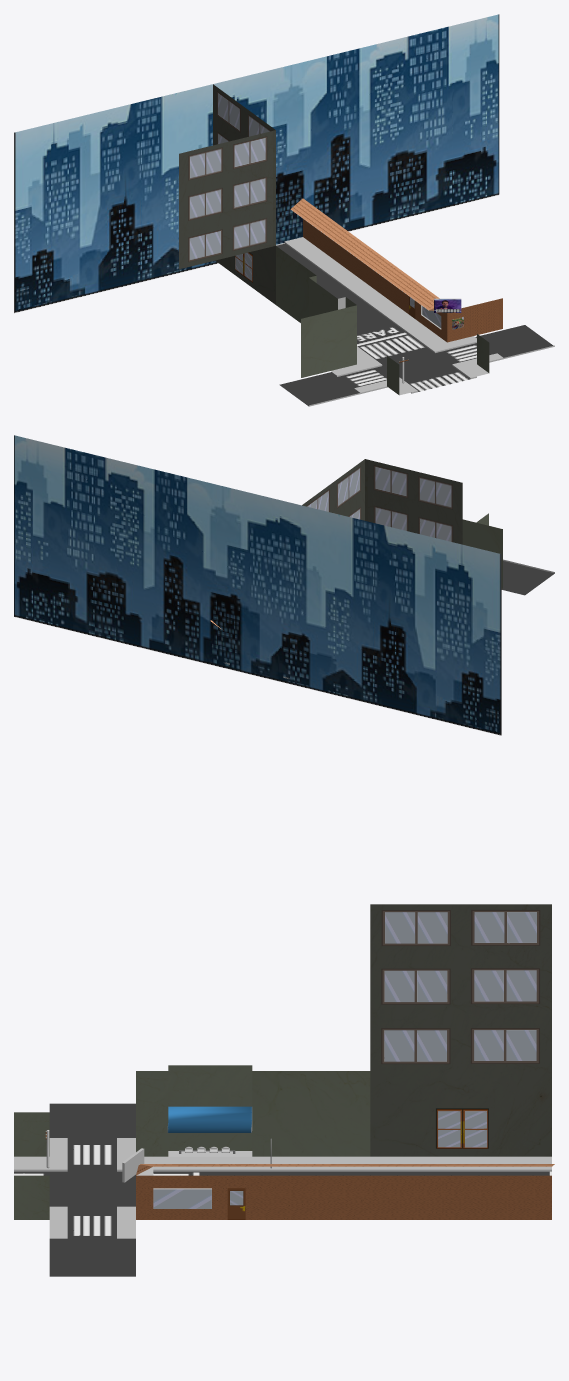
The picture shows the model from 3 angles, top to bottom: view 1: azimuth 30°, elevation 25°; view 2: azimuth 150°, elevation 25°; view 3: azimuth 270°, elevation 25°; orthographic projection. The views are drawn at different scales.
Parts seen in each view (by area): view 1: Cenario; view 2: Cenario; view 3: Cenario.
Boxes of the visible parts, bbox=[...] form: Cenario: bbox=[14, 14, 554, 406]; Cenario: bbox=[14, 435, 554, 735]; Cenario: bbox=[14, 904, 554, 1276].
Bounding box in the file's own units: 577 × 206 × 386.
